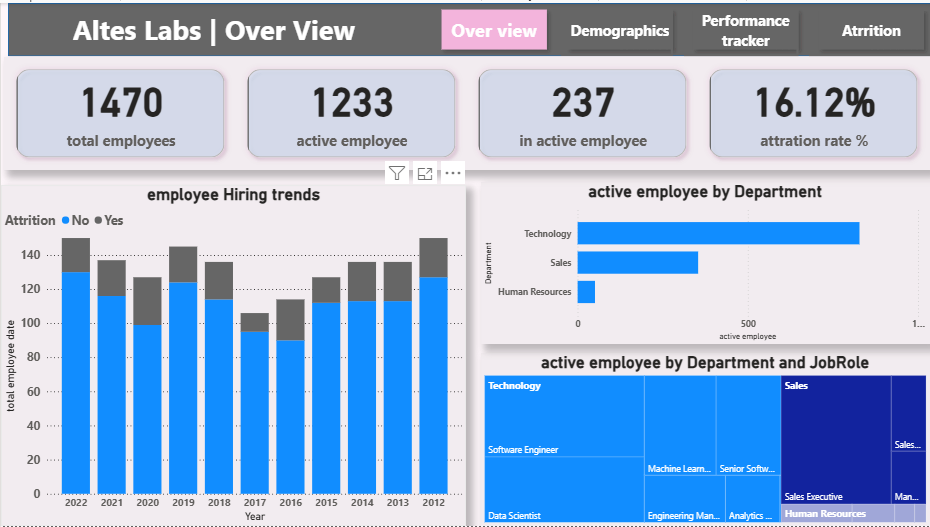

Layout of this report page (visuals, bound fields, positions):
{"tool":"powerbi","page":{"name":"Over view","canvas":[1280,720],"ordinal":0},"visuals":[{"type":"cardVisual","fields":{"Data":["_measures.total employees","_measures.active employee","_measures.in active employee","_measures.attration rate %"]},"box":[4.1,74.3,1275.9,155.5],"z":0},{"type":"shape","box":[9.8,0,1270.5,73.4],"z":1000},{"type":"pageNavigator","box":[598,0,682.3,73.4],"z":3000},{"type":"actionButton","box":[1111.6,8.6,168.8,64.8],"z":4000},{"type":"actionButton","box":[940.4,8.6,157.7,64.8],"z":5000},{"type":"actionButton","box":[770.4,7.3,154.1,66],"z":6000},{"type":"columnChart","title":"employee Hiring trends","fields":{"Y":["_measures.total employee date"],"Series":["DimEmployee.Attrition"],"Category":["DimDate.Year"]},"box":[0,250.5,640,469.3],"z":7000},{"type":"clusteredBarChart","fields":{"Y":["_measures.active employee"],"Category":["DimEmployee.Department"]},"box":[660.3,247,617.5,222.6],"z":8000},{"type":"treemap","fields":{"Group":["DimEmployee.Department"],"Values":["_measures.active employee"],"Details":["DimEmployee.JobRole"]},"box":[660.3,481.8,617.5,238.5],"z":9000},{"type":"textbox","box":[93.6,5.5,422.5,61.9],"z":10000}]}

Visuals, with their boxes in screenshot pixels (x1, y1, x2, y2), scaled from the page's 1280x720 canvas onto the 930x527 screenshot:
cardVisual - _measures.total employees x _measures.active employee: [3,54,929,168]
shape: [7,0,929,54]
pageNavigator: [434,0,929,54]
actionButton: [808,6,929,54]
actionButton: [683,6,798,54]
actionButton: [560,5,672,54]
"employee Hiring trends" columnChart: [0,183,465,526]
clusteredBarChart - _measures.active employee x DimEmployee.Department: [480,181,928,344]
treemap - DimEmployee.Department x _measures.active employee: [480,353,928,526]
textbox: [68,4,375,49]
